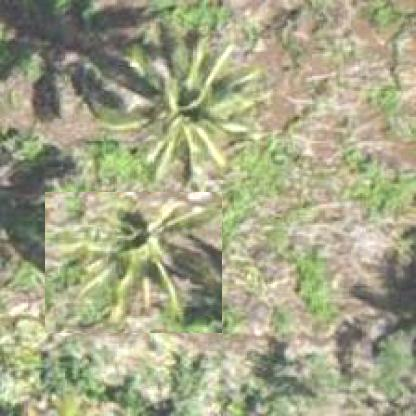coconut tree: (80, 32, 274, 184), (44, 191, 222, 333)
